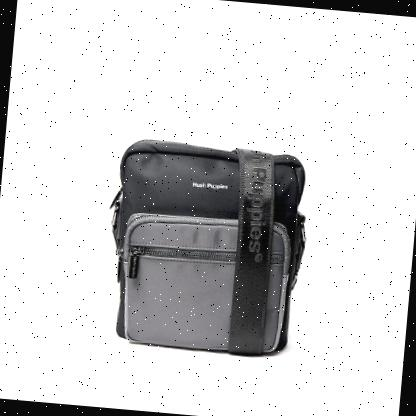bag: (96, 128, 322, 364)
